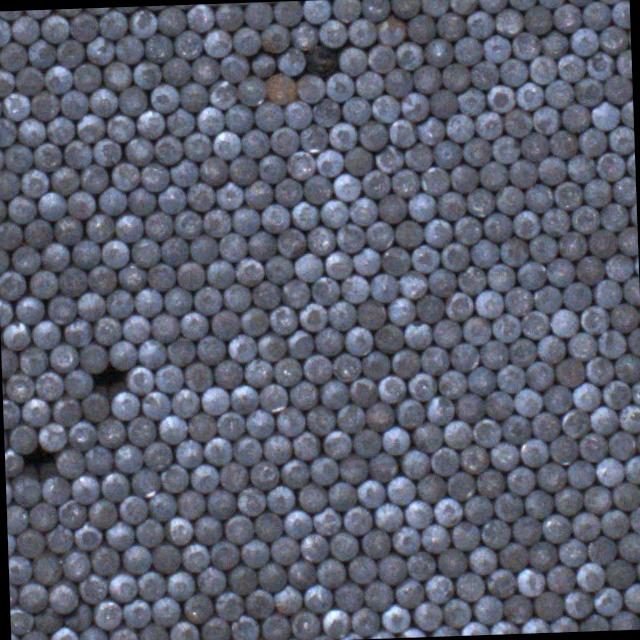tool: (304, 44, 338, 76), (10, 472, 42, 505), (30, 549, 61, 582), (47, 581, 78, 613), (264, 73, 296, 104), (66, 420, 96, 451), (18, 582, 48, 613), (51, 396, 82, 426), (362, 581, 392, 611), (512, 386, 542, 416), (268, 126, 298, 156), (376, 553, 406, 583), (364, 219, 394, 249), (204, 488, 234, 518), (294, 72, 324, 102), (27, 502, 57, 532), (336, 404, 366, 434), (8, 424, 38, 454), (600, 378, 630, 408), (56, 266, 86, 296), (342, 146, 372, 176), (515, 260, 545, 290), (572, 78, 602, 108), (542, 78, 572, 108), (60, 548, 90, 578), (480, 516, 510, 546), (527, 540, 557, 570), (482, 212, 512, 242), (259, 24, 289, 54), (262, 434, 292, 464), (327, 120, 357, 150), (477, 159, 507, 189), (523, 2, 553, 32), (554, 356, 584, 386), (253, 99, 283, 129), (561, 102, 591, 132), (106, 572, 136, 602), (86, 498, 116, 528), (356, 299, 386, 329), (412, 64, 442, 94), (576, 126, 606, 156), (292, 252, 322, 282), (96, 416, 126, 446), (326, 300, 356, 330), (358, 120, 388, 150), (436, 190, 466, 220), (423, 38, 453, 68), (18, 346, 48, 376), (129, 466, 159, 496), (274, 227, 304, 257), (134, 518, 164, 548), (122, 544, 152, 574), (420, 164, 450, 194), (304, 226, 334, 256), (99, 472, 129, 502), (380, 246, 410, 276), (260, 202, 290, 232), (113, 443, 143, 473), (78, 572, 108, 602), (36, 420, 66, 450), (235, 74, 265, 104), (451, 36, 481, 66), (398, 268, 428, 298), (150, 544, 180, 574), (104, 520, 134, 550), (70, 472, 100, 502), (90, 546, 120, 576), (542, 385, 572, 414), (586, 228, 615, 258), (286, 150, 315, 180), (102, 62, 132, 91), (320, 198, 349, 228), (269, 534, 298, 564), (580, 0, 610, 29), (21, 396, 50, 426), (443, 113, 472, 143), (522, 183, 552, 212), (302, 172, 331, 202), (438, 546, 467, 576), (553, 2, 582, 32), (504, 286, 533, 316), (443, 290, 472, 320), (535, 460, 564, 490), (188, 235, 218, 264), (202, 28, 232, 57), (339, 272, 368, 302), (499, 414, 528, 444), (189, 55, 219, 84), (152, 364, 182, 393), (79, 344, 108, 374), (336, 47, 366, 76), (484, 83, 514, 112), (338, 452, 367, 482), (428, 266, 457, 296), (177, 80, 206, 110), (464, 10, 494, 39), (509, 31, 539, 60), (335, 222, 364, 252), (342, 325, 372, 354), (448, 162, 477, 192), (323, 250, 352, 280), (325, 72, 354, 102), (346, 18, 376, 47), (432, 318, 461, 348), (479, 338, 508, 368), (409, 244, 438, 274), (376, 15, 406, 44), (455, 264, 484, 294), (302, 352, 331, 382), (152, 596, 181, 626), (172, 28, 201, 58), (117, 86, 146, 116), (213, 358, 242, 388), (383, 67, 413, 96), (567, 152, 596, 182), (548, 128, 577, 158), (305, 406, 334, 436), (136, 338, 165, 368), (134, 108, 163, 138), (182, 132, 212, 161), (332, 170, 361, 200), (32, 371, 62, 400), (85, 212, 114, 242), (428, 88, 457, 118), (340, 95, 370, 124), (536, 156, 566, 185), (497, 542, 526, 572), (122, 598, 152, 627), (466, 186, 495, 216), (376, 194, 406, 223), (256, 152, 286, 181), (310, 274, 339, 304), (404, 140, 433, 170), (93, 598, 122, 628), (544, 564, 573, 594), (167, 570, 196, 600), (452, 215, 481, 245), (248, 228, 277, 258), (416, 114, 446, 143), (538, 28, 568, 57), (432, 140, 462, 169), (126, 415, 155, 445), (469, 58, 498, 88), (238, 306, 268, 335), (399, 92, 428, 122), (82, 443, 111, 473), (258, 332, 287, 362), (372, 144, 402, 173), (243, 178, 272, 208), (153, 134, 182, 164), (412, 421, 441, 451), (390, 167, 419, 196), (529, 411, 558, 440), (213, 590, 242, 619), (224, 515, 253, 544), (561, 281, 590, 310), (76, 292, 105, 321), (499, 236, 528, 265), (96, 187, 125, 216), (253, 513, 282, 542), (63, 369, 92, 398), (149, 82, 178, 111), (449, 341, 478, 370), (27, 270, 56, 299), (359, 528, 388, 557), (49, 343, 78, 372), (557, 538, 586, 567), (557, 53, 586, 82), (391, 348, 420, 377), (485, 567, 514, 596), (150, 312, 179, 341), (244, 588, 273, 617), (320, 378, 349, 407), (482, 34, 511, 63), (518, 131, 547, 160), (165, 336, 194, 365), (462, 493, 491, 522), (196, 336, 225, 365), (47, 294, 76, 323), (498, 56, 527, 85), (318, 18, 347, 47), (423, 218, 452, 247), (440, 63, 469, 92), (355, 69, 384, 98), (229, 383, 258, 412), (230, 26, 259, 55), (472, 594, 501, 623), (591, 100, 620, 129), (473, 110, 502, 139), (373, 322, 402, 351), (156, 5, 185, 34), (119, 493, 148, 522), (234, 256, 263, 285), (206, 80, 235, 109), (190, 464, 219, 493), (532, 590, 561, 619), (185, 412, 214, 441), (489, 135, 518, 164), (394, 218, 423, 247), (13, 529, 42, 558), (224, 102, 253, 131), (230, 205, 259, 234), (222, 281, 251, 310), (298, 123, 327, 152), (279, 277, 308, 306), (609, 302, 638, 331), (312, 97, 341, 126), (45, 523, 74, 552), (56, 449, 85, 478), (413, 294, 442, 323), (220, 462, 248, 492), (386, 476, 414, 506), (251, 460, 279, 490), (220, 52, 248, 82), (492, 490, 520, 520), (576, 560, 604, 590), (584, 354, 612, 384), (536, 334, 564, 364), (203, 436, 231, 466), (276, 407, 304, 437), (454, 392, 482, 422), (324, 428, 352, 458), (597, 26, 627, 54), (426, 394, 454, 424), (516, 566, 544, 596), (342, 506, 370, 536), (454, 572, 484, 600), (43, 64, 71, 94), (132, 286, 160, 316), (532, 284, 562, 312), (604, 74, 632, 104), (423, 574, 451, 604), (320, 606, 348, 636), (440, 242, 470, 270), (328, 480, 356, 510), (360, 168, 390, 196), (370, 94, 400, 122), (443, 420, 471, 450), (526, 232, 554, 262), (244, 408, 272, 438), (512, 514, 540, 544), (211, 130, 239, 160), (572, 380, 600, 410), (260, 382, 288, 412), (430, 446, 458, 476), (130, 238, 158, 268), (392, 578, 422, 606), (540, 512, 568, 542), (170, 388, 198, 418), (502, 108, 532, 136), (466, 366, 494, 396), (576, 254, 604, 284), (61, 90, 89, 120), (112, 390, 140, 420), (560, 406, 588, 436), (332, 350, 360, 380), (172, 208, 200, 238), (468, 240, 498, 268), (228, 332, 256, 362), (209, 538, 237, 568), (232, 436, 260, 466), (92, 314, 120, 344), (182, 592, 210, 622), (148, 491, 176, 521), (138, 571, 166, 601), (14, 294, 44, 322), (512, 210, 540, 240), (289, 610, 317, 640), (514, 80, 542, 110), (268, 304, 296, 334), (366, 42, 394, 72), (596, 152, 626, 180), (494, 6, 524, 34), (272, 176, 302, 204), (252, 278, 280, 308), (290, 200, 320, 228), (359, 348, 387, 378), (168, 158, 198, 186), (210, 310, 238, 340), (14, 66, 42, 95), (91, 137, 120, 165), (438, 370, 466, 399), (596, 329, 624, 358), (599, 509, 627, 538), (162, 285, 190, 314), (524, 359, 552, 388), (568, 332, 596, 361), (520, 309, 548, 338), (11, 244, 39, 273), (520, 438, 548, 467), (491, 313, 519, 342), (282, 510, 310, 539), (200, 386, 228, 415), (495, 186, 524, 214), (114, 33, 142, 62), (184, 362, 212, 391), (298, 532, 326, 561), (394, 40, 423, 68), (582, 177, 610, 206), (334, 583, 363, 611), (570, 26, 598, 55), (316, 557, 344, 586), (33, 142, 61, 171), (290, 379, 318, 408), (86, 266, 115, 294), (458, 443, 486, 472), (496, 364, 524, 393), (374, 502, 402, 531), (236, 485, 264, 514), (195, 106, 224, 134), (39, 243, 67, 272), (473, 290, 502, 318), (330, 530, 358, 559), (214, 2, 243, 30), (352, 428, 380, 457), (447, 472, 475, 501), (548, 308, 576, 337), (523, 490, 551, 519), (586, 536, 615, 564), (38, 190, 66, 219), (506, 466, 534, 495), (484, 390, 512, 419), (419, 522, 447, 551), (49, 167, 77, 196), (80, 164, 108, 193), (273, 357, 301, 386), (508, 336, 536, 365), (196, 567, 225, 595), (572, 511, 600, 540), (490, 441, 518, 470), (161, 58, 190, 86), (304, 583, 332, 612), (551, 180, 580, 208), (128, 9, 156, 38), (556, 230, 584, 259), (419, 344, 447, 373), (462, 136, 491, 164), (355, 478, 383, 507), (284, 98, 312, 127), (68, 13, 96, 42), (58, 500, 86, 529), (442, 597, 470, 626), (406, 372, 434, 401), (540, 206, 568, 235), (292, 429, 320, 458), (348, 376, 376, 405), (368, 451, 396, 480), (548, 435, 576, 464), (54, 214, 82, 243), (566, 459, 594, 488), (578, 432, 606, 461), (88, 86, 116, 115), (10, 14, 38, 43), (160, 237, 188, 266), (485, 262, 514, 290), (406, 13, 434, 42), (264, 255, 292, 284), (6, 373, 34, 402), (107, 340, 135, 369), (369, 272, 398, 300), (406, 550, 434, 579), (256, 562, 284, 591), (273, 586, 301, 615), (192, 284, 220, 313), (604, 558, 633, 586), (142, 442, 170, 471), (103, 287, 131, 316), (364, 402, 392, 431), (106, 112, 135, 140), (144, 210, 172, 239), (82, 392, 110, 421), (416, 473, 444, 502), (214, 180, 243, 208), (241, 128, 270, 156), (158, 413, 186, 442), (348, 196, 377, 224), (186, 182, 214, 211), (198, 156, 226, 185), (72, 240, 100, 269), (201, 207, 229, 236), (298, 302, 326, 331), (61, 318, 90, 346), (42, 476, 71, 504), (144, 34, 173, 62), (455, 86, 484, 114), (76, 112, 104, 141), (228, 156, 256, 185), (396, 399, 424, 428), (280, 457, 308, 486), (414, 600, 442, 629), (40, 14, 68, 43), (289, 21, 317, 50), (585, 51, 613, 80), (180, 543, 208, 572), (228, 564, 257, 592), (64, 602, 93, 630), (32, 91, 59, 121), (243, 1, 273, 28), (350, 247, 380, 274), (165, 516, 192, 546), (176, 488, 203, 518), (579, 306, 607, 334), (2, 92, 30, 120), (99, 11, 127, 39), (45, 115, 73, 143), (64, 139, 92, 167), (570, 204, 598, 232), (178, 311, 206, 339), (124, 136, 152, 164), (265, 484, 293, 512), (594, 456, 622, 484), (546, 258, 574, 286), (67, 190, 95, 218), (19, 170, 47, 198), (54, 39, 82, 67), (592, 586, 620, 614), (467, 546, 495, 574), (72, 64, 100, 92), (114, 214, 142, 242), (308, 456, 336, 484), (286, 560, 314, 588), (100, 240, 128, 268), (175, 260, 203, 288), (110, 162, 138, 190), (582, 486, 610, 514), (376, 374, 404, 402), (24, 219, 52, 247), (218, 232, 246, 260), (604, 252, 632, 280), (528, 54, 556, 82), (28, 39, 56, 67), (406, 192, 434, 220), (147, 263, 175, 291), (598, 202, 626, 230), (351, 606, 379, 634), (348, 555, 376, 583), (606, 432, 634, 460), (381, 425, 409, 453), (508, 158, 536, 186), (461, 314, 489, 342), (16, 117, 44, 145), (476, 469, 504, 497), (164, 108, 192, 136), (240, 538, 268, 566), (4, 144, 32, 172), (314, 326, 342, 354), (141, 391, 169, 419), (314, 148, 342, 176), (134, 60, 162, 88), (30, 320, 58, 348), (502, 594, 530, 622), (554, 488, 582, 516), (86, 36, 114, 64), (612, 482, 640, 510), (385, 296, 413, 324), (436, 12, 464, 40), (298, 482, 326, 510), (276, 46, 304, 74), (562, 590, 590, 618), (0, 322, 28, 350), (194, 516, 222, 544), (118, 264, 146, 292), (122, 313, 150, 341), (157, 184, 185, 212), (386, 118, 414, 146), (160, 464, 188, 492), (142, 162, 170, 190), (403, 321, 431, 349), (244, 358, 272, 386), (184, 3, 213, 30), (471, 418, 498, 447), (451, 521, 478, 550), (405, 499, 432, 528), (174, 439, 201, 468), (287, 329, 314, 358), (402, 451, 429, 480), (72, 523, 101, 550), (608, 123, 634, 153), (592, 278, 619, 306), (432, 496, 459, 524), (217, 412, 245, 439), (382, 604, 409, 632), (6, 195, 34, 222), (532, 106, 559, 134), (126, 366, 153, 394), (262, 613, 290, 640), (312, 506, 339, 534), (126, 188, 154, 215), (391, 524, 418, 552), (205, 260, 232, 288), (0, 41, 26, 70), (614, 353, 640, 382), (230, 614, 258, 640), (590, 406, 616, 434), (34, 606, 62, 632), (611, 177, 636, 206), (200, 616, 230, 640), (8, 554, 32, 584), (274, 1, 302, 26), (617, 530, 640, 560), (250, 52, 276, 78), (0, 271, 23, 300), (618, 401, 640, 430), (6, 503, 28, 532), (330, 0, 360, 21), (616, 226, 638, 254), (300, 0, 329, 21), (608, 610, 638, 630), (360, 0, 389, 20), (168, 620, 197, 640), (10, 606, 32, 632), (138, 621, 168, 640), (0, 220, 20, 248), (622, 580, 640, 610), (390, 0, 420, 18), (4, 450, 23, 478), (614, 48, 632, 77), (622, 275, 640, 304), (611, 0, 630, 27), (3, 399, 20, 429), (0, 168, 16, 198), (1, 348, 17, 378), (520, 617, 550, 633), (623, 455, 640, 483), (550, 615, 578, 632), (578, 614, 606, 630), (420, 0, 449, 15), (0, 116, 15, 145), (625, 327, 640, 356), (80, 625, 109, 640), (108, 626, 138, 640), (50, 626, 79, 640), (489, 620, 517, 634), (619, 99, 633, 127), (460, 622, 488, 636), (447, 0, 476, 13), (0, 67, 13, 95), (628, 505, 640, 534), (429, 624, 458, 636), (396, 626, 425, 638), (0, 297, 12, 326), (624, 151, 636, 179), (476, 0, 506, 11), (19, 629, 48, 640), (630, 378, 640, 407), (505, 0, 535, 8), (5, 473, 12, 507), (9, 580, 18, 606), (0, 16, 8, 45), (52, 8, 81, 16), (366, 630, 394, 638), (628, 200, 636, 228), (0, 246, 8, 273), (24, 10, 51, 18), (307, 633, 337, 640), (7, 532, 15, 558), (339, 632, 365, 640), (535, 0, 564, 7), (0, 10, 21, 19), (111, 6, 142, 12), (634, 555, 640, 584), (82, 8, 111, 14), (633, 252, 639, 280), (635, 427, 640, 457), (0, 195, 5, 222), (277, 635, 304, 640), (566, 0, 594, 4), (10, 631, 20, 640), (596, 0, 625, 3), (0, 144, 2, 172)
void: (21, 450, 58, 480), (90, 366, 128, 395)
